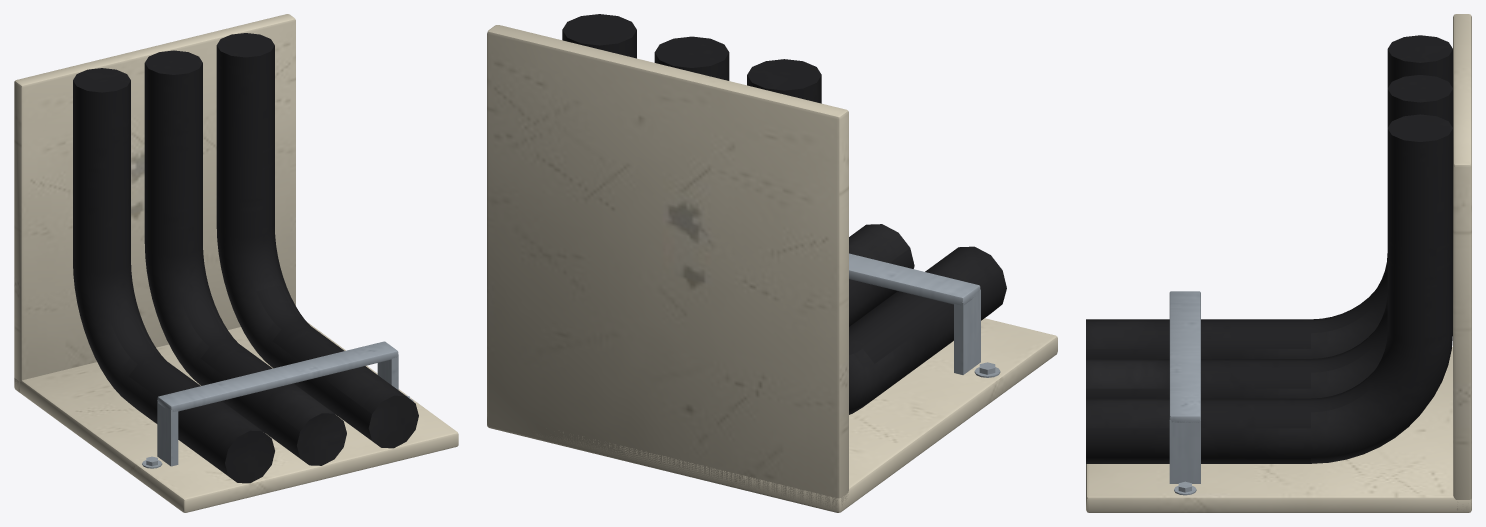
File: wires_concave_bend.glb
3 views of the same model, side by side, from view 1: azimuth 30°, elevation 25°; view 2: azimuth 150°, elevation 25°; view 3: azimuth 270°, elevation 25° (orthographic). The views are drawn at different scales.
Visible parts, largest first — view 1: Body.003; view 2: Body.003; view 3: Body.003.
Part boxes in pixels (<box>): Body.003: <box>14,14,458,512</box>; Body.003: <box>487,14,1057,512</box>; Body.003: <box>1086,14,1471,512</box>.
Size of the model in its own units: 0.23 by 0.247 by 0.247.
Materials: 3 (3 with a texture image).
